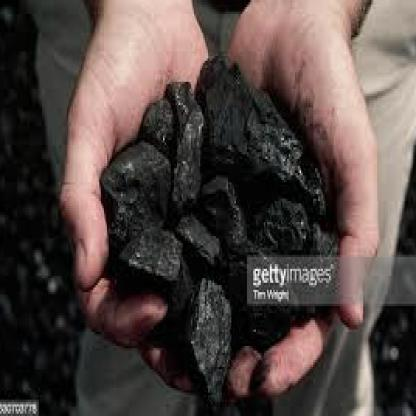Sedimentary_coal: (222, 89, 314, 196), (99, 145, 168, 231), (180, 271, 230, 365), (112, 220, 184, 285), (168, 96, 203, 212)
